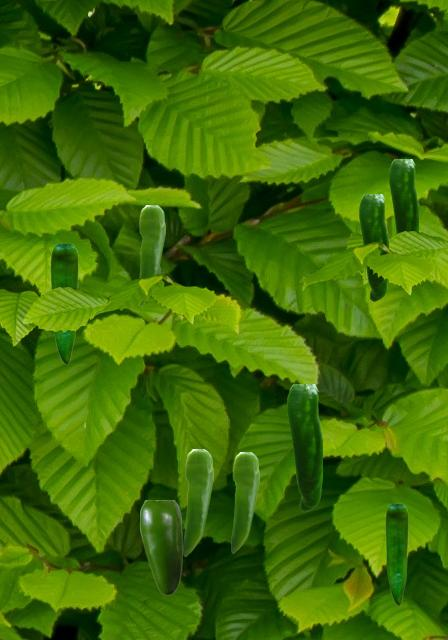green_chili: (287, 384, 321, 510), (140, 500, 181, 594), (50, 244, 77, 363), (183, 449, 212, 555), (359, 194, 387, 300), (231, 452, 258, 552), (138, 205, 164, 305), (385, 504, 407, 604), (389, 159, 417, 233)
